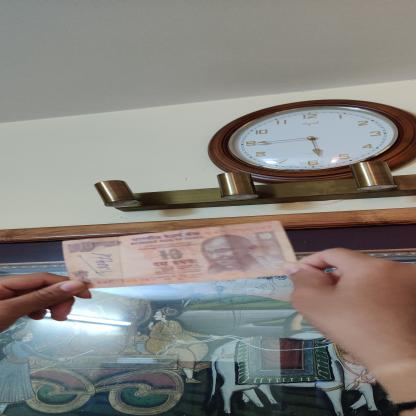Old10Front: (61, 221, 298, 289)
